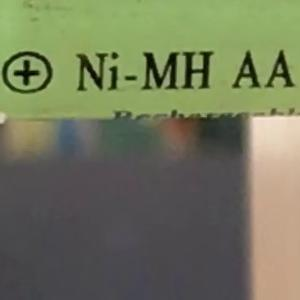keyword: (66, 41, 213, 101)
